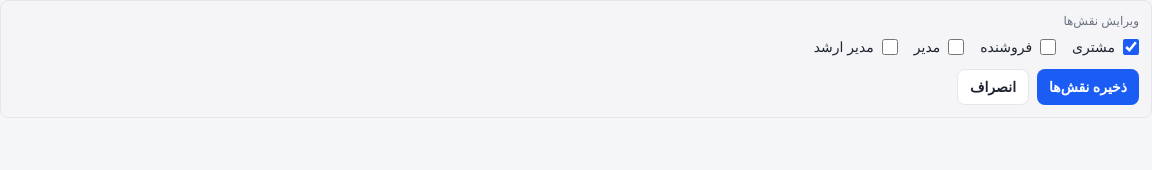
Test: UserRolesEditor › shows a localized message for self-modification errors
The width and height of the screenshot is (1152, 170).
Click the checkbox labelled "فروشنده": point(1048, 47) [1040, 39, 1056, 55]
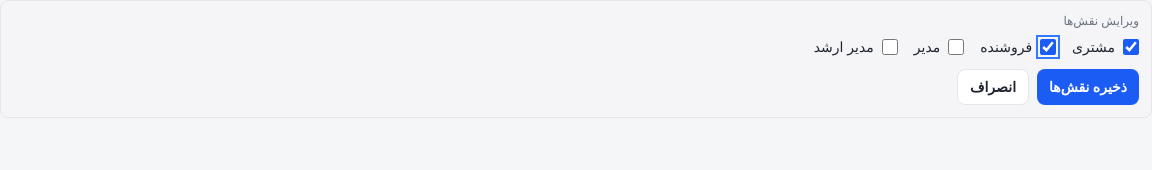
Click the button "ذخیره نقش‌ها": point(1088, 87) [1037, 69, 1139, 105]
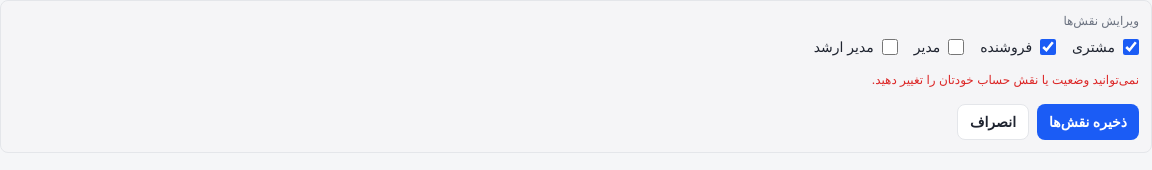
Expected: the message reads "نمی‌توانید وضعیت یا نقش حساب خودتان را تغییر دهید.", [872, 72, 1139, 87]
